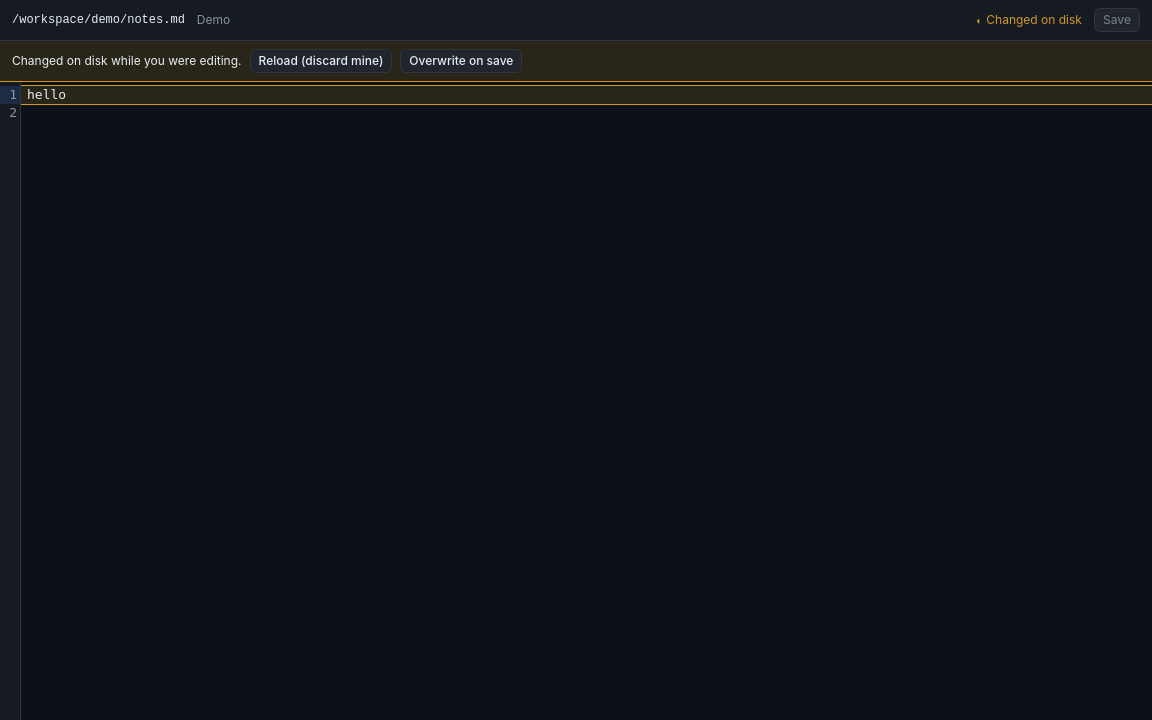
it: EditorPane › Reload (discard mine) replaces the buffer with the disk copy
Expected: the text "/workspace/demo/notes.md" is shown, x1=12 y1=12 x2=185 y2=28
Click the button "Reload (discard mine)".
click(321, 61)  # box x1=250 y1=49 x2=392 y2=73
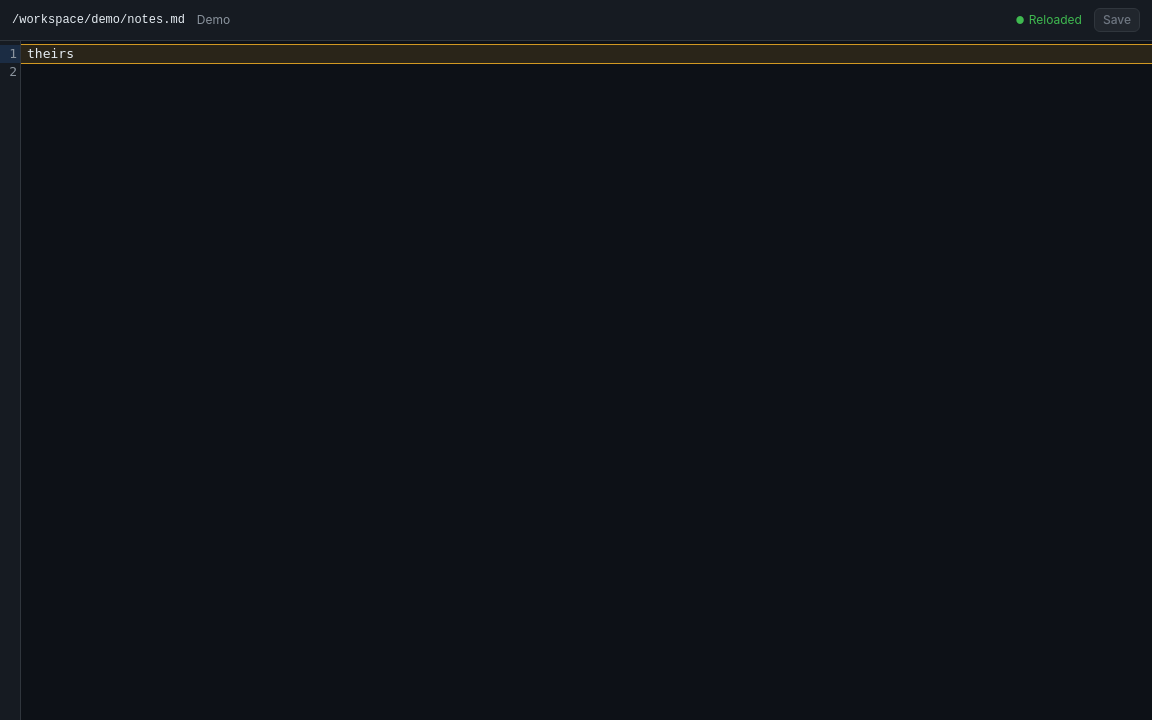
Expected: the button "Save" is disabled, x1=1094 y1=8 x2=1140 y2=32
Now the text "while you were editing" is gone
Now the element with test id "code-editor" shows "theirs", box x1=27 y1=46 x2=74 y2=61
